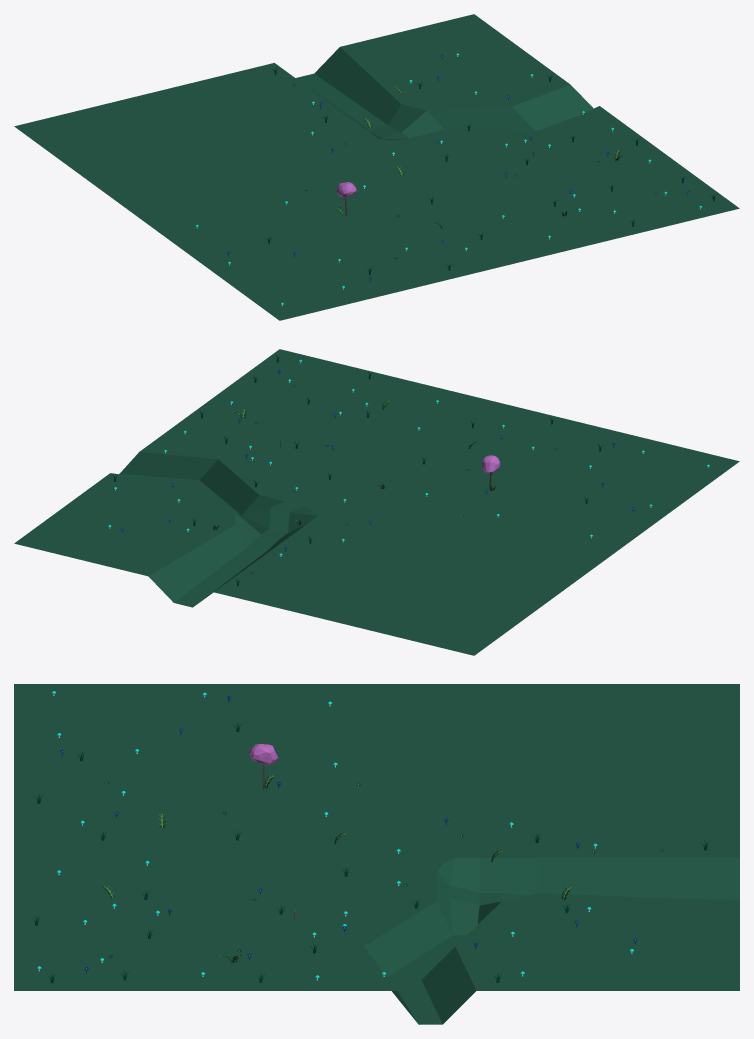
Rendered from LPS.glb.
3 renders of one model, top to bottom at view 1: azimuth 30°, elevation 25°; view 2: azimuth 150°, elevation 25°; view 3: azimuth 270°, elevation 25°, orthographic. The views are drawn at different scales.
Parts seen in each view (by area): view 1: Ground; view 2: Ground; view 3: Ground, Tree-1.006.
Boxes of the visible parts, x1,y1,x2,y2 form: Ground: (14,14,739,320); Ground: (14,349,739,655); Ground: (14,684,739,1024); Tree-1.006: (249,744,278,789).
Size of the model in its own units: 51.29 by 5.53 by 50.
